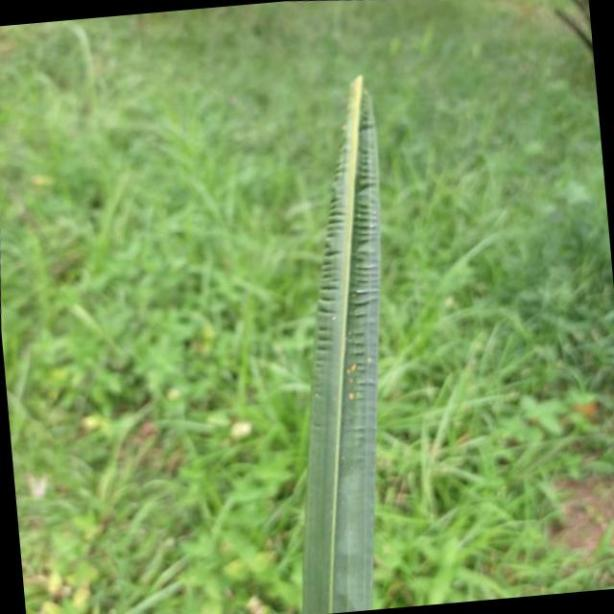Boron: (298, 60, 387, 614)
